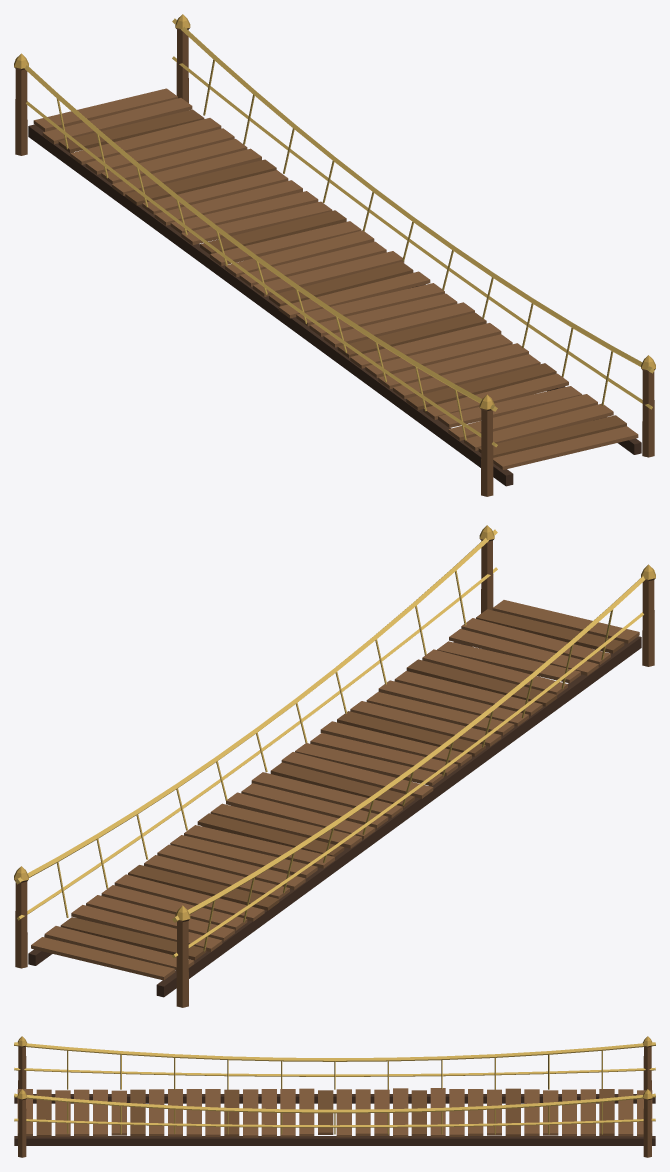
The model's file is RopeBridge.obj.
3 renders of one model, top to bottom at view 1: azimuth 30°, elevation 25°; view 2: azimuth 150°, elevation 25°; view 3: azimuth 270°, elevation 25°, orthographic. The views are drawn at different scales.
Size of the model in its own units: 8.52 by 4.6 by 40.03.
